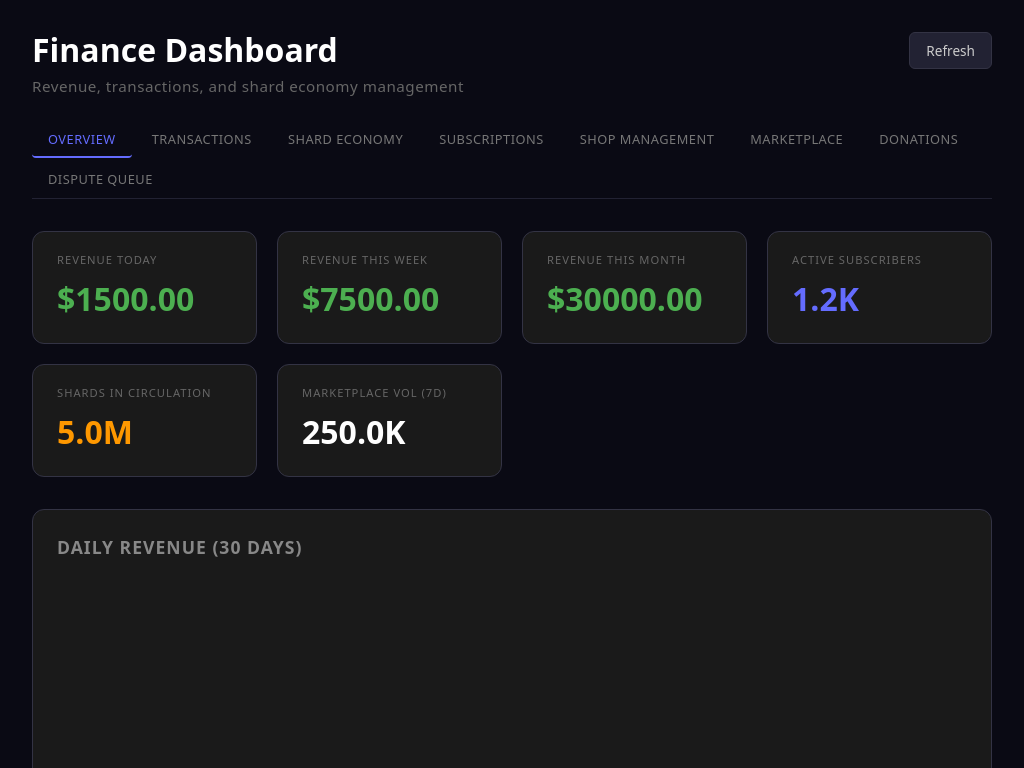
Test: FinanceDashboard › switches tabs and loads correct content
Expected: the text "Revenue Today" is shown, x1=57 y1=252 x2=157 y2=267
Click the button "Transactions" at (202, 140), box x1=136 y1=122 x2=268 y2=158
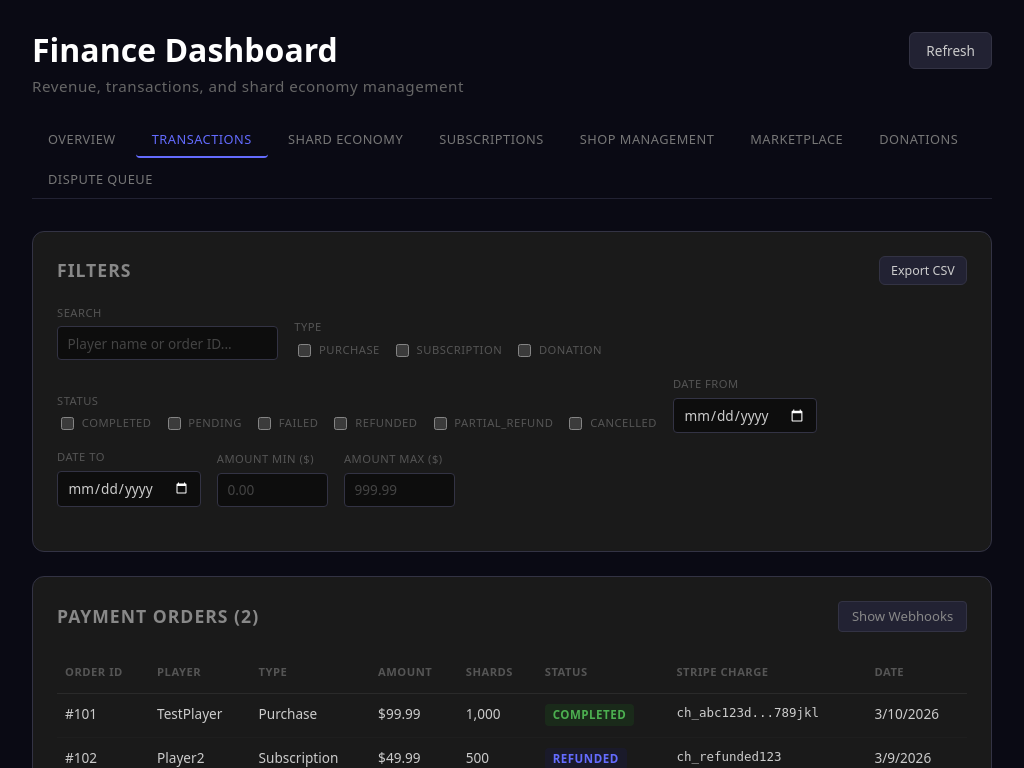
Expected: the heading "Filters" is shown, x1=57 y1=257 x2=131 y2=284
Click the button "Shard Economy" at (346, 140), box x1=272 y1=122 x2=419 y2=158
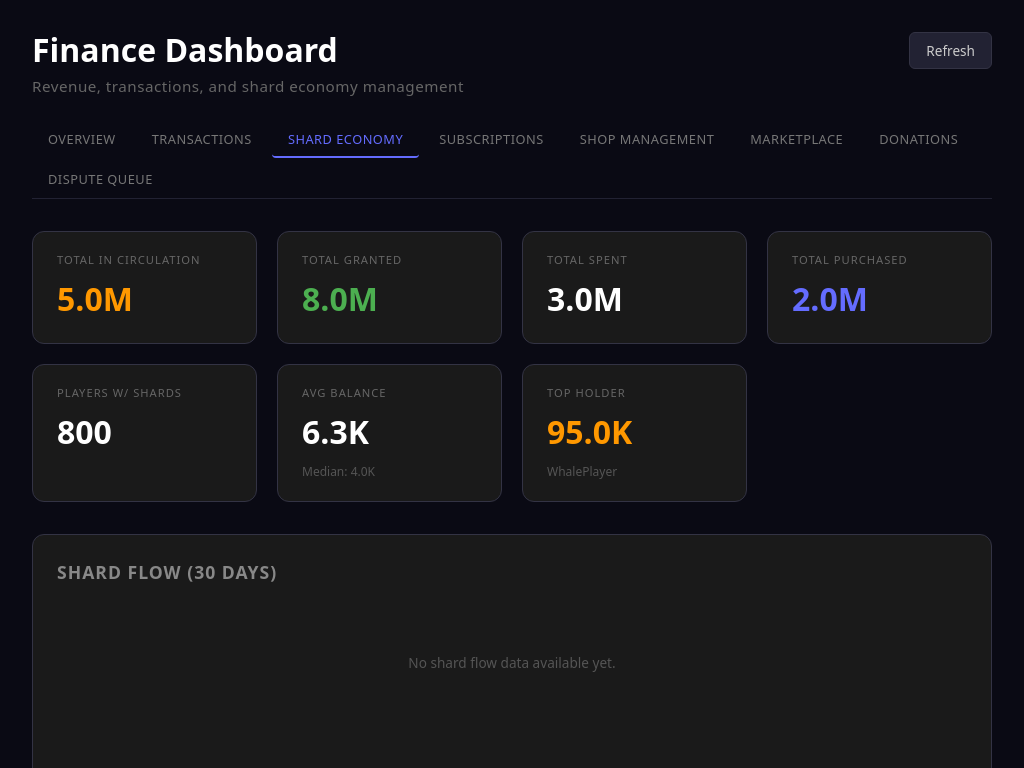
Expected: the text "Total in Circulation" is shown, x1=57 y1=252 x2=200 y2=267
